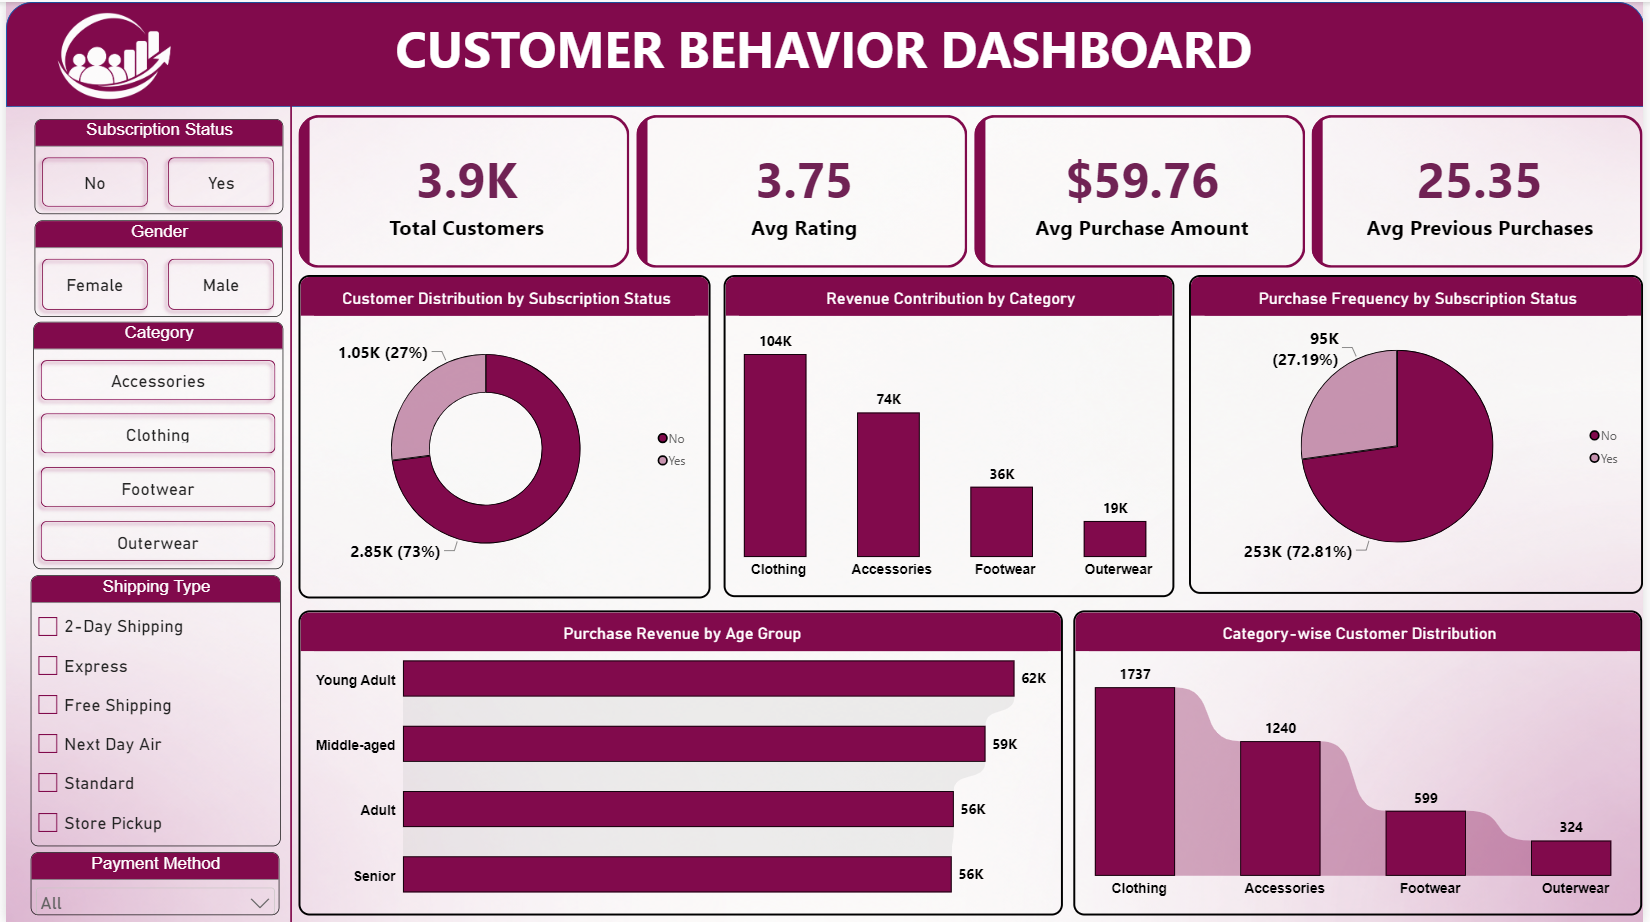

What the dashboard file says about the page in this screenshot:
{"tool":"powerbi","page":{"name":"Page 1","canvas":[1920,1080],"ordinal":0},"visuals":[{"type":"shape","box":[0,0,1920.8,122.9],"z":0},{"type":"textbox","box":[430.3,13.2,1058.1,96.6],"z":1000},{"type":"cardVisual","fields":{"Data":["customer_behavior customer.Total Customers","customer_behavior customer.Avg Rating","customer_behavior customer.Avg Purchase Amount","customer_behavior customer.Avg Previous Purchases"]},"box":[342.3,133,1578.4,179.9],"z":2000},{"type":"donutChart","title":"Customer Distribution by Subscription Status","fields":{"Category":["customer_behavior customer.subscription_status"],"Y":["CountNonNull(customer_behavior customer.customer_id)"]},"box":[342.3,320.8,483.1,379.5],"z":3000},{"type":"clusteredColumnChart","title":"Revenue Contribution by Category","fields":{"Category":["customer_behavior customer.category"],"Y":["Sum(customer_behavior customer.purchase_amount)"]},"box":[840.5,320.8,528.1,377.5],"z":4000},{"type":"columnChart","title":"Category-wise Customer Distribution","fields":{"Category":["customer_behavior customer.category"],"Y":["CountNonNull(customer_behavior customer.customer_id)"]},"box":[1251.3,713.8,667,357.9],"z":5000},{"type":"barChart","title":"Purchase Revenue by Age Group","fields":{"Category":["customer_behavior customer.age_group"],"Y":["Sum(customer_behavior customer.purchase_amount)"]},"box":[342.3,713.9,895.8,357.9],"z":6000},{"type":"pieChart","title":"Purchase Frequency by Subscription Status","fields":{"Category":["customer_behavior customer.subscription_status"],"Y":["Sum(customer_behavior customer.purchase_frequency_days)"]},"box":[1386.3,320.8,532,373.6],"z":7000},{"type":"advancedSlicerVisual","title":"Subscription Status","fields":{"Values":["customer_behavior customer.subscription_status"]},"box":[33.3,136.9,291.4,111.5],"z":8000},{"type":"advancedSlicerVisual","title":"Gender","fields":{"Values":["customer_behavior customer.gender"]},"box":[33.3,256.7,291.1,113.3],"z":9000},{"type":"advancedSlicerVisual","title":"Category","fields":{"Values":["customer_behavior customer.category"]},"box":[32.2,375.6,293.3,290],"z":10000},{"type":"slicer","title":"Shipping Type","fields":{"Values":["customer_behavior customer.shipping_type"]},"box":[28.9,672.2,293.3,317.8],"z":11000},{"type":"slicer","title":"Payment Method","fields":{"Values":["customer_behavior customer.payment_method"]},"box":[29.5,996.9,291.9,73.8],"z":12000},{"type":"shape","box":[327.9,122.4,13.1,957.6],"z":13000},{"type":"image","box":[33.3,6.3,247.6,109.5],"z":13001}]}

Visuals, with their boxes in screenshot pixels (x1, y1, x2, y2), scaled from the page's 1920x1080 canvas onto the 1650x922 screenshot:
shape: [0,0,1649,105]
textbox: [370,11,1279,94]
cardVisual - customer_behavior customer.Total Customers x customer_behavior customer.Avg Rating: [294,114,1649,267]
"Customer Distribution by Subscription Status" donutChart: [294,274,709,598]
"Revenue Contribution by Category" clusteredColumnChart: [722,274,1176,596]
"Category-wise Customer Distribution" columnChart: [1075,609,1649,915]
"Purchase Revenue by Age Group" barChart: [294,609,1064,915]
"Purchase Frequency by Subscription Status" pieChart: [1191,274,1649,593]
"Subscription Status" advancedSlicerVisual: [29,117,279,212]
"Gender" advancedSlicerVisual: [29,219,279,316]
"Category" advancedSlicerVisual: [28,321,280,568]
"Shipping Type" slicer: [25,574,277,845]
"Payment Method" slicer: [25,851,276,914]
shape: [282,104,293,921]
image: [29,5,241,99]
